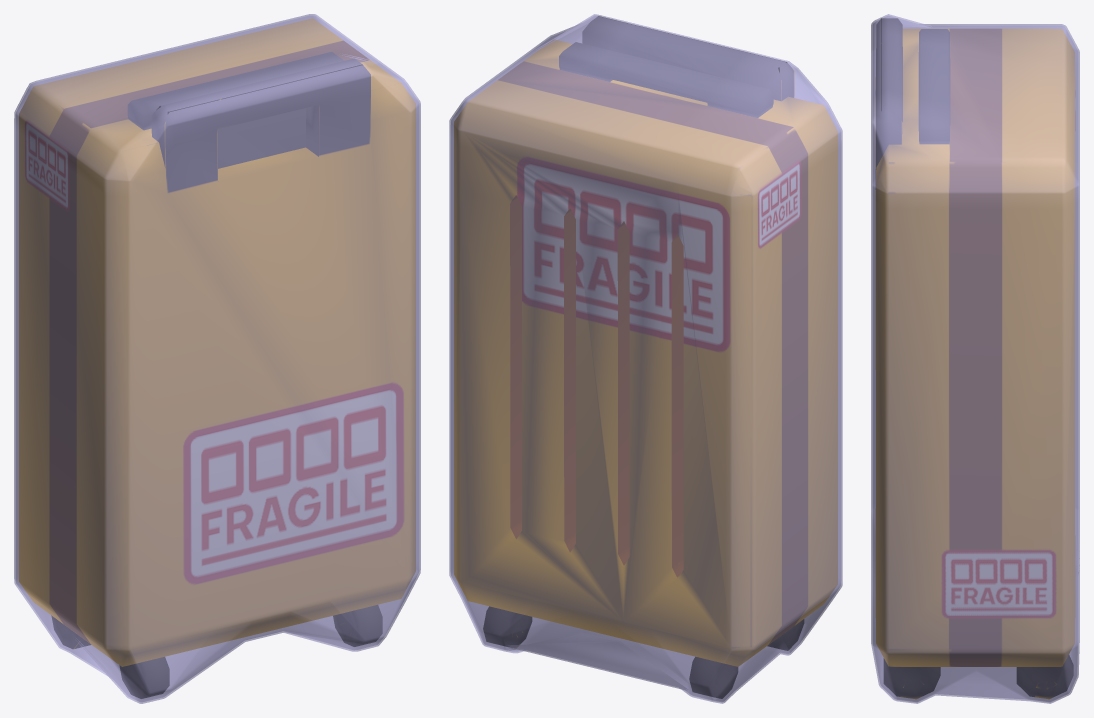
Rendered from WrappedLuggage.fbx.
3 renders of one model, left to right at view 1: azimuth 30°, elevation 25°; view 2: azimuth 150°, elevation 25°; view 3: azimuth 270°, elevation 25°, orthographic. The views are drawn at different scales.
Visible parts, largest first — view 1: Plastic Wrap; view 2: Plastic Wrap; view 3: Plastic Wrap.
Boxes of the visible parts, bbox=[...] form: Plastic Wrap: bbox=[14, 14, 420, 703]; Plastic Wrap: bbox=[449, 14, 842, 703]; Plastic Wrap: bbox=[871, 14, 1079, 703].
Bounding box in the file's own units: 2.25 × 4.08 × 1.32.
Materials: 2 (1 with a texture image).
